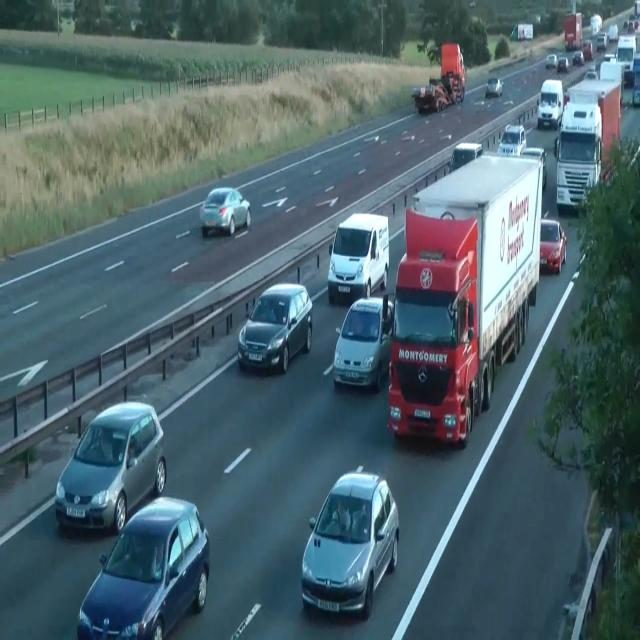bus: (300, 465, 400, 620), (237, 282, 313, 373), (332, 295, 394, 392), (199, 187, 251, 237), (539, 218, 567, 274), (447, 141, 483, 175), (521, 147, 547, 190), (498, 124, 526, 156), (484, 77, 504, 98), (581, 40, 593, 60), (623, 15, 639, 30), (557, 56, 569, 73), (606, 24, 618, 41), (596, 32, 606, 52), (584, 66, 598, 80), (572, 50, 584, 66), (545, 54, 557, 68), (632, 84, 640, 105), (410, 86, 422, 99), (604, 54, 616, 62), (468, 0, 476, 7)
car: (386, 207, 480, 448), (410, 82, 450, 113)
jeep: (76, 494, 210, 638), (54, 399, 166, 534), (327, 212, 389, 303), (537, 78, 563, 129)
minibus: (386, 151, 544, 448), (553, 76, 621, 214), (411, 42, 465, 113), (440, 42, 465, 103), (615, 34, 636, 74), (564, 12, 582, 50), (509, 22, 533, 41)
